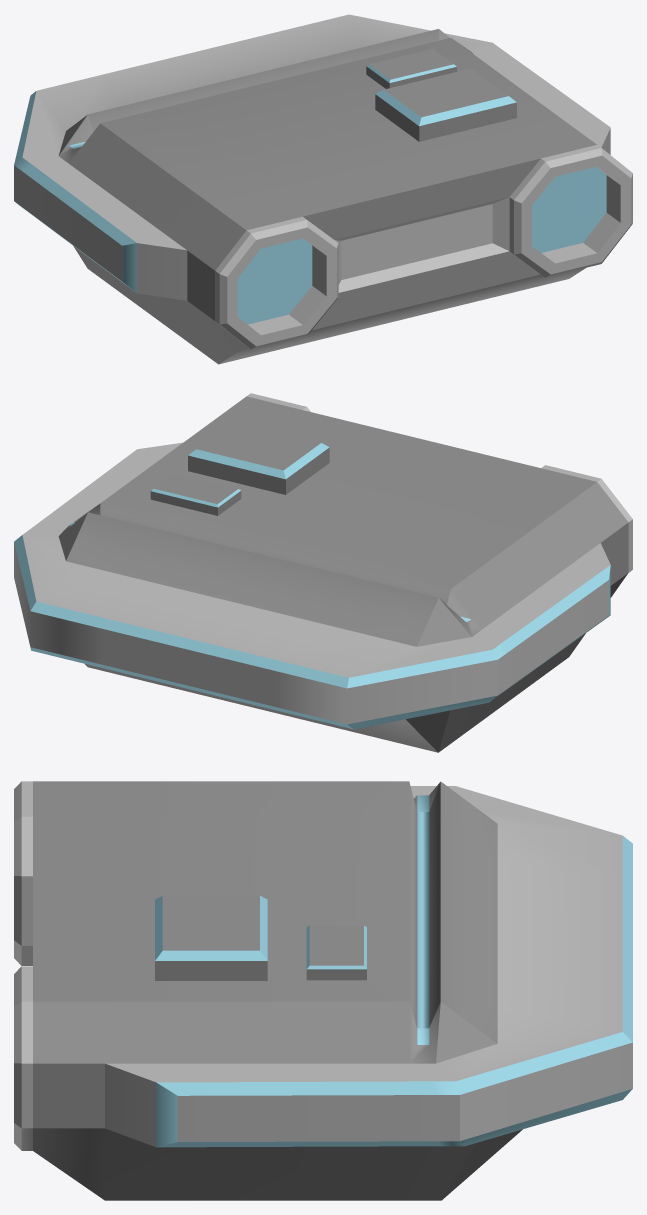
The model's file is voltmeter.fbx.
3 renders of one model, top to bottom at view 1: azimuth 30°, elevation 25°; view 2: azimuth 150°, elevation 25°; view 3: azimuth 270°, elevation 25°, orthographic. The views are drawn at different scales.
Parts seen in each view (by area): view 1: pCube1, pCube2, pCube3; view 2: pCube1, pCube2, pCube3; view 3: pCube1, pCube2, pCube3.
Part boxes in pixels (x1=…): pCube1: x1=14, y1=14, x2=632, y2=364; pCube2: x1=375, y1=68, x2=516, y2=141; pCube3: x1=366, y1=49, x2=456, y2=88; pCube1: x1=14, y1=393, x2=632, y2=752; pCube2: x1=188, y1=421, x2=329, y2=494; pCube3: x1=150, y1=473, x2=241, y2=515; pCube1: x1=14, y1=781, x2=632, y2=1200; pCube2: x1=155, y1=895, x2=267, y2=980; pCube3: x1=306, y1=925, x2=366, y2=980.
Bounding box in the file's own units: 1.54 × 0.5315 × 1.32.
